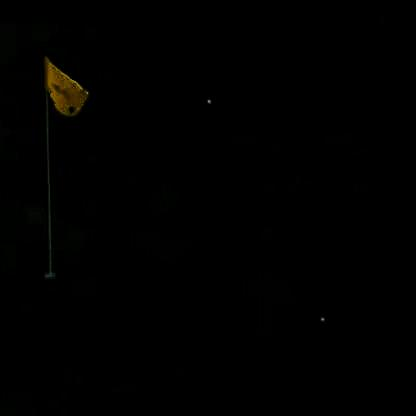golfball: (203, 95, 210, 102)
